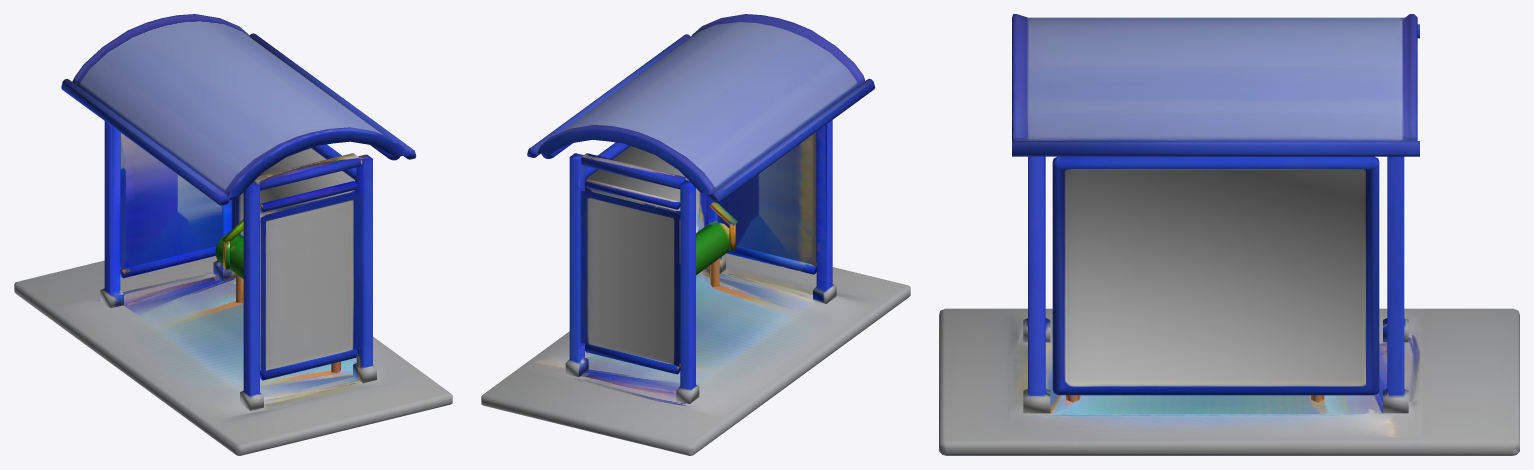
File: cityBusStop2.glb
The picture shows the model from 3 angles, left to right: view 1: azimuth 30°, elevation 25°; view 2: azimuth 150°, elevation 25°; view 3: azimuth 270°, elevation 25°; orthographic projection. The views are drawn at different scales.
Parts seen in each view (by area): view 1: tripo_node_55c41df6; view 2: tripo_node_55c41df6; view 3: tripo_node_55c41df6.
Part boxes in pixels (x1,y1,x2,y2): tripo_node_55c41df6: [14, 14, 452, 455]; tripo_node_55c41df6: [481, 14, 910, 455]; tripo_node_55c41df6: [939, 14, 1519, 455].
Size of the model in its own units: 0.526 by 0.6433 by 0.9476.
Materials: 1 (1 with a texture image).
